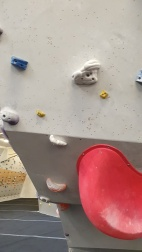Jug: (72, 59, 101, 85), (46, 178, 67, 194), (49, 133, 68, 148)
Pinch: (11, 55, 29, 71)
Sloper: (1, 107, 20, 127)
